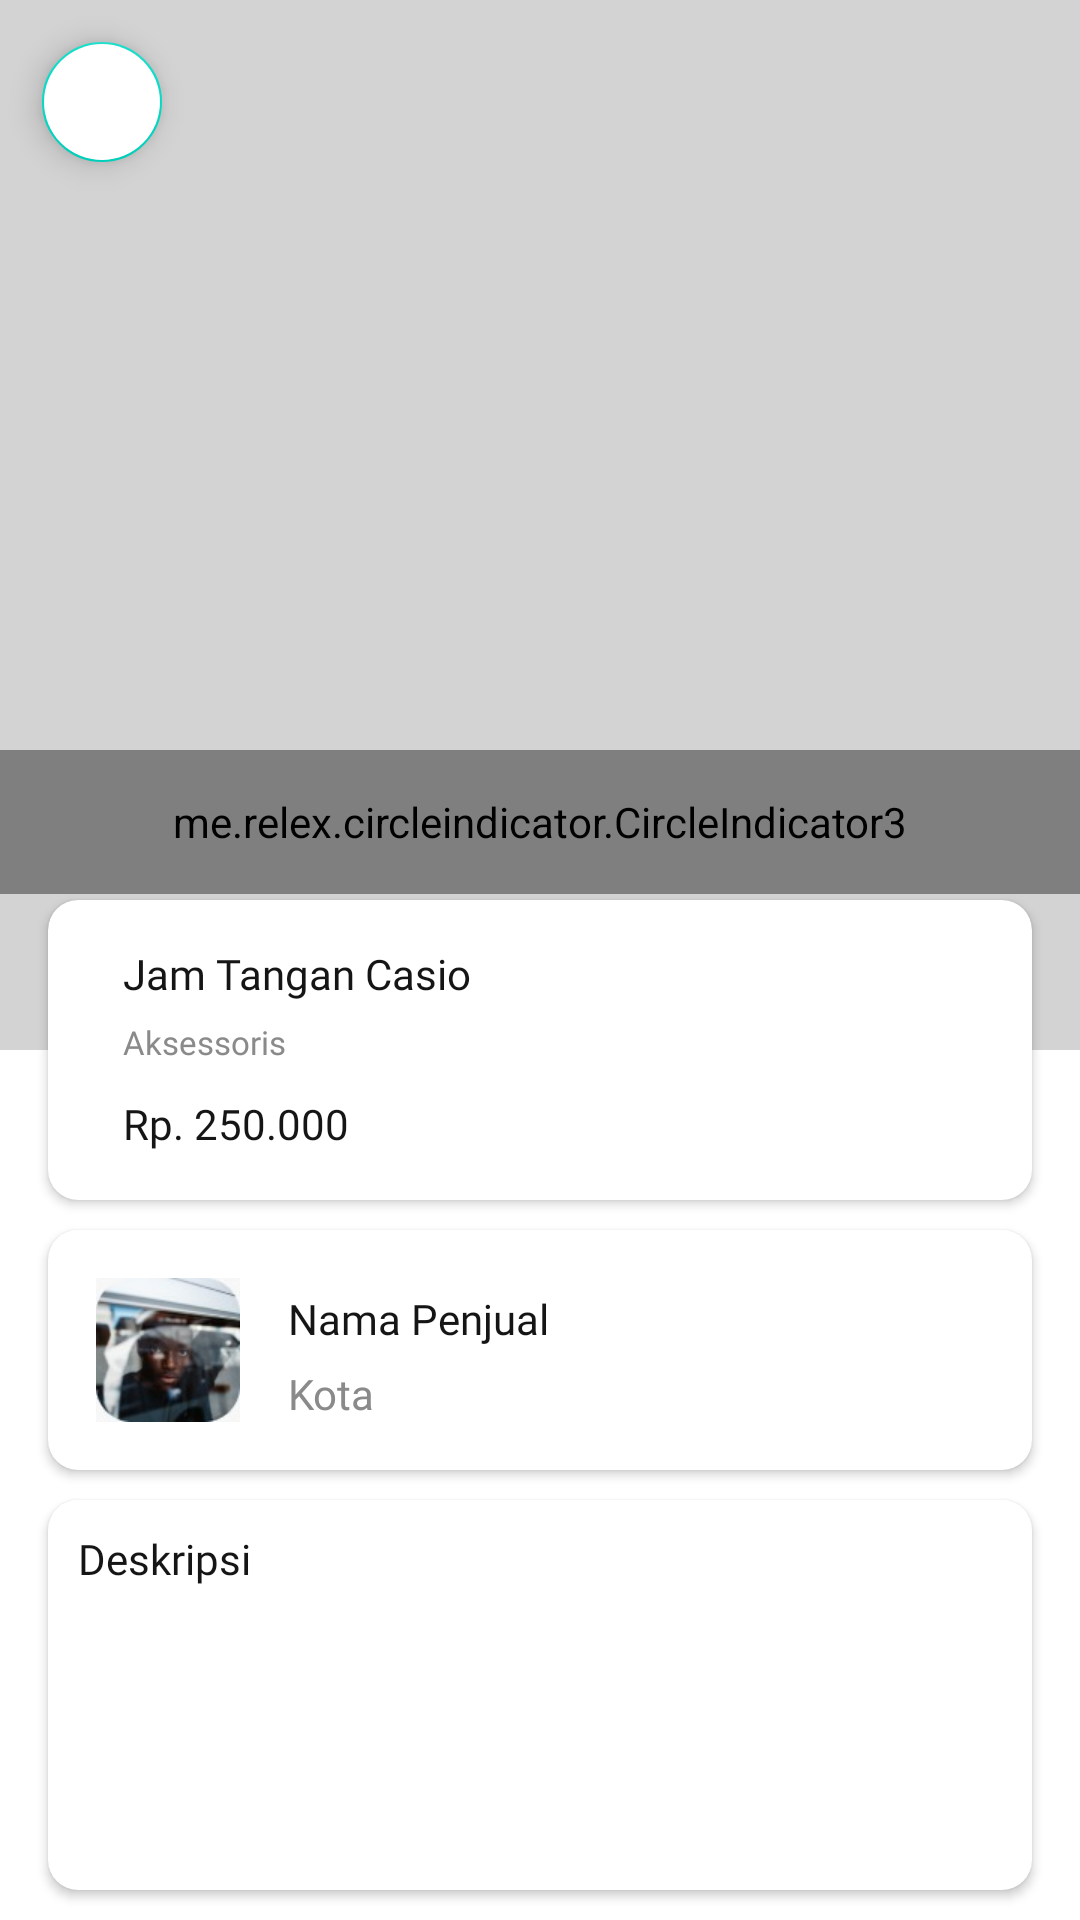

Named icons in this screenshot (1080×1920) and their centers, (x=x, y=y):
profilepicture: (x=168, y=1350)
